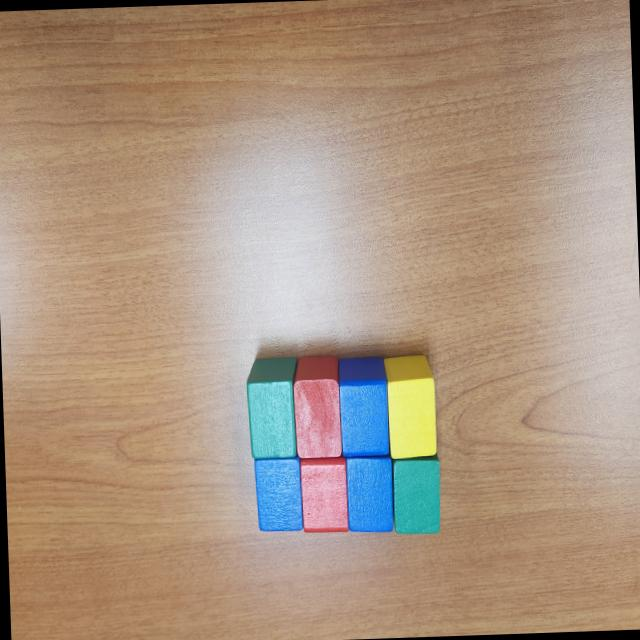blue: (336, 356, 391, 460), (342, 456, 396, 535), (253, 456, 304, 534)
green: (246, 354, 302, 461), (391, 456, 443, 537)
red: (292, 354, 342, 459), (299, 456, 349, 532)
yellow: (382, 354, 438, 458)
